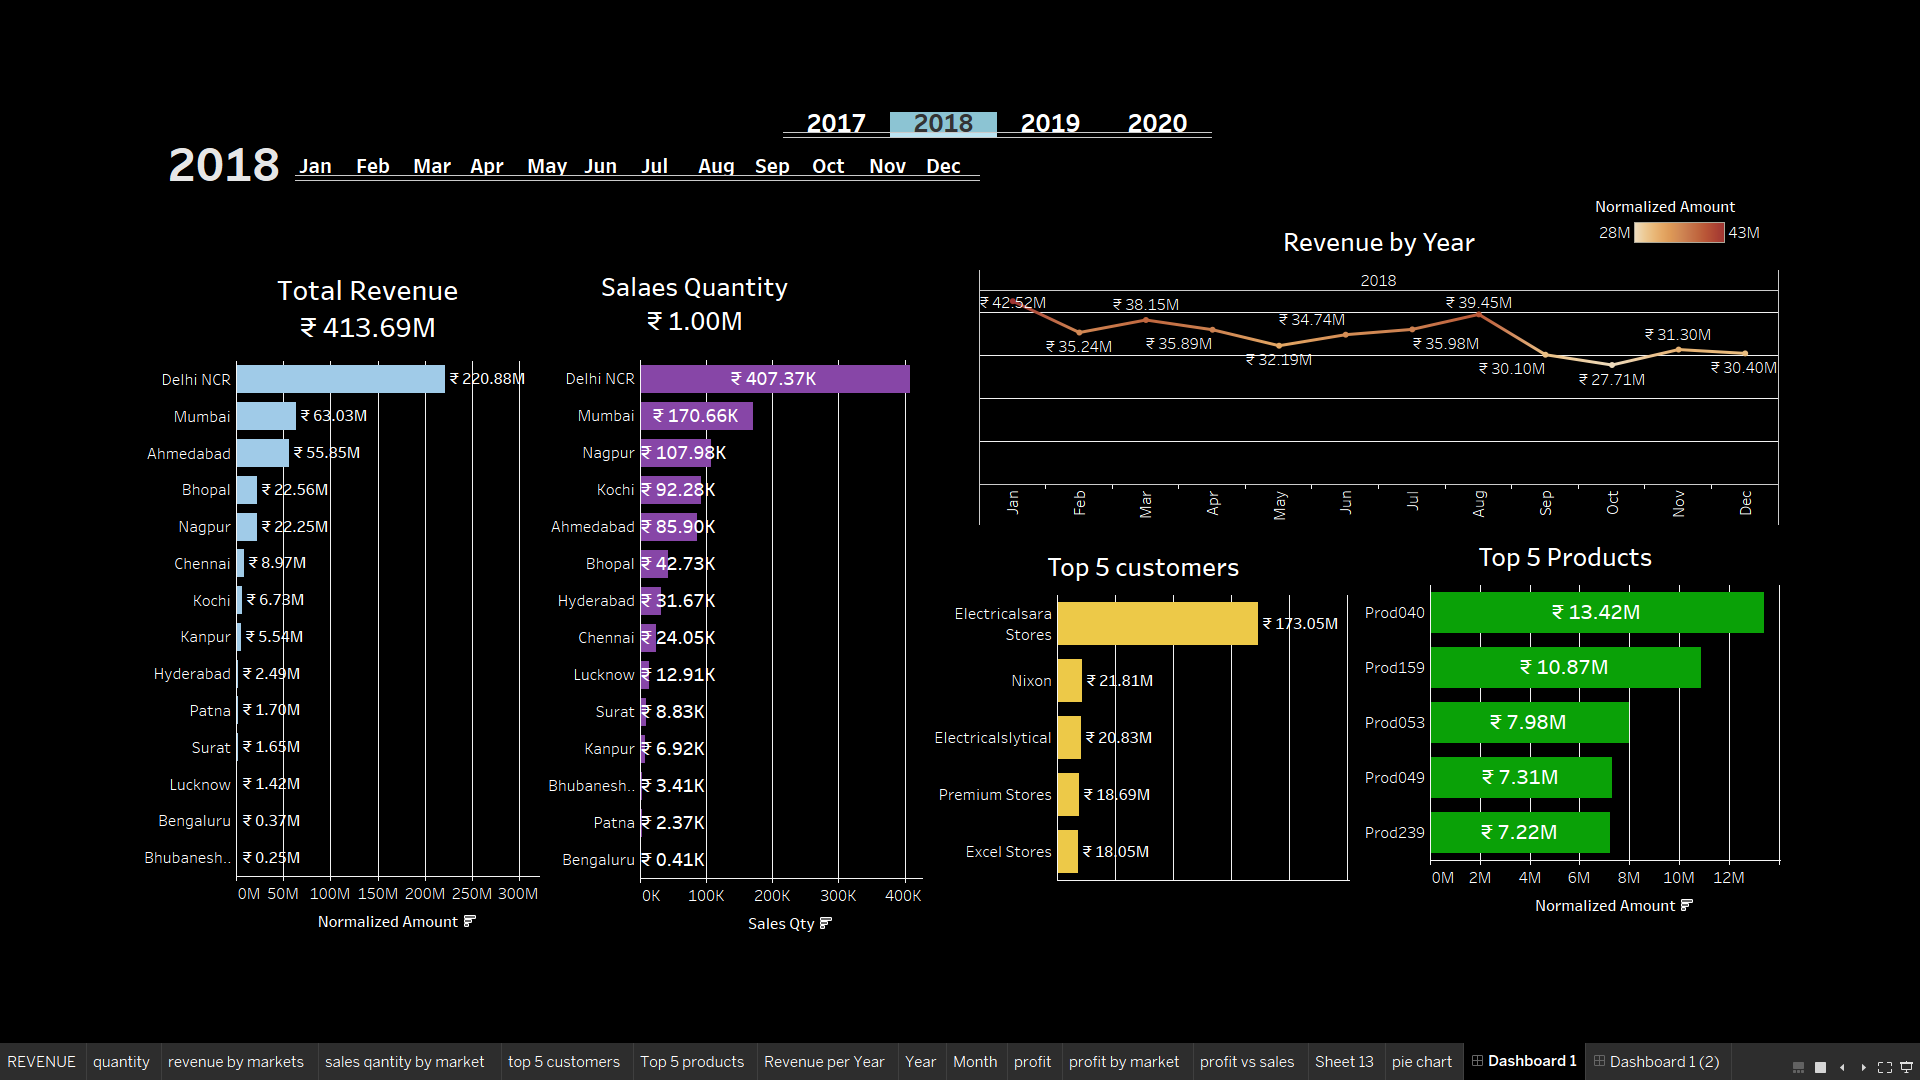

This screenshot's page, from the dashboard's own definition file:
{"tool":"tableau","page":{"name":"Dashboard 1","canvas":[1650,850],"ordinal":0},"visuals":[{"type":"worksheet","title":"Year","mark":"Automatic","cols":["cy_date"],"box":[648,1,446,62]},{"type":"worksheet","box":[25,25,375,78]},{"type":"worksheet","title":"Month","mark":"Automatic","cols":["cy_date"],"box":[503,47,715,58]},{"type":"worksheet","title":"Revenue per Year","mark":"Line","rows":["Calculation_1130122082506117121"],"cols":["cy_date","cy_date"],"param":"[federated.1wn63oq0kgk8pm16fl8hp06h48ja].[sum:Calculation_1130122082506117121:qk","box":[1460,100,170,65]},{"type":"worksheet","title":"Revenue per Year","mark":"Line","rows":["Calculation_1130122082506117121"],"cols":["cy_date","cy_date"],"box":[844,124,800,306]},{"type":"worksheet","title":"quantity","mark":"Automatic","box":[517,164,211,115]},{"type":"worksheet","title":"REVENUE","mark":"Automatic","box":[133,175,201,96]},{"type":"worksheet","title":"sales qantity by market","mark":"Automatic","rows":["markets_name"],"cols":["sales_qty"],"box":[413,264,375,585]},{"type":"worksheet","title":"revenue by markets","mark":"Automatic","rows":["markets_name"],"cols":["Calculation_1130122082506117121"],"box":[9,265,396,578]},{"type":"worksheet","title":"Top 5 products","mark":"Automatic","rows":["product_code (products)"],"cols":["Calculation_1130122082506117121"],"box":[1215,439,431,407]},{"type":"worksheet","title":"top 5 customers","mark":"Automatic","rows":["custmer_name"],"cols":["Calculation_1130122082506117121"],"box":[798,449,421,397]}]}

Visuals, with their boxes on the page's 1650x850 design canvas (x1, y1, x2, y2). These are canvas units, not pixel positions in the 1920x1080 screenshot, which may show the page scaled, cropped or inside an application window:
"Year" worksheet: <region>648, 1, 1094, 63</region>
worksheet: <region>25, 25, 400, 103</region>
"Month" worksheet: <region>503, 47, 1218, 105</region>
"Revenue per Year" worksheet (Line marks): <region>1460, 100, 1630, 165</region>
"Revenue per Year" worksheet (Line marks): <region>844, 124, 1644, 430</region>
"quantity" worksheet: <region>517, 164, 728, 279</region>
"REVENUE" worksheet: <region>133, 175, 334, 271</region>
"sales qantity by market" worksheet: <region>413, 264, 788, 849</region>
"revenue by markets" worksheet: <region>9, 265, 405, 843</region>
"Top 5 products" worksheet: <region>1215, 439, 1646, 846</region>
"top 5 customers" worksheet: <region>798, 449, 1219, 846</region>
